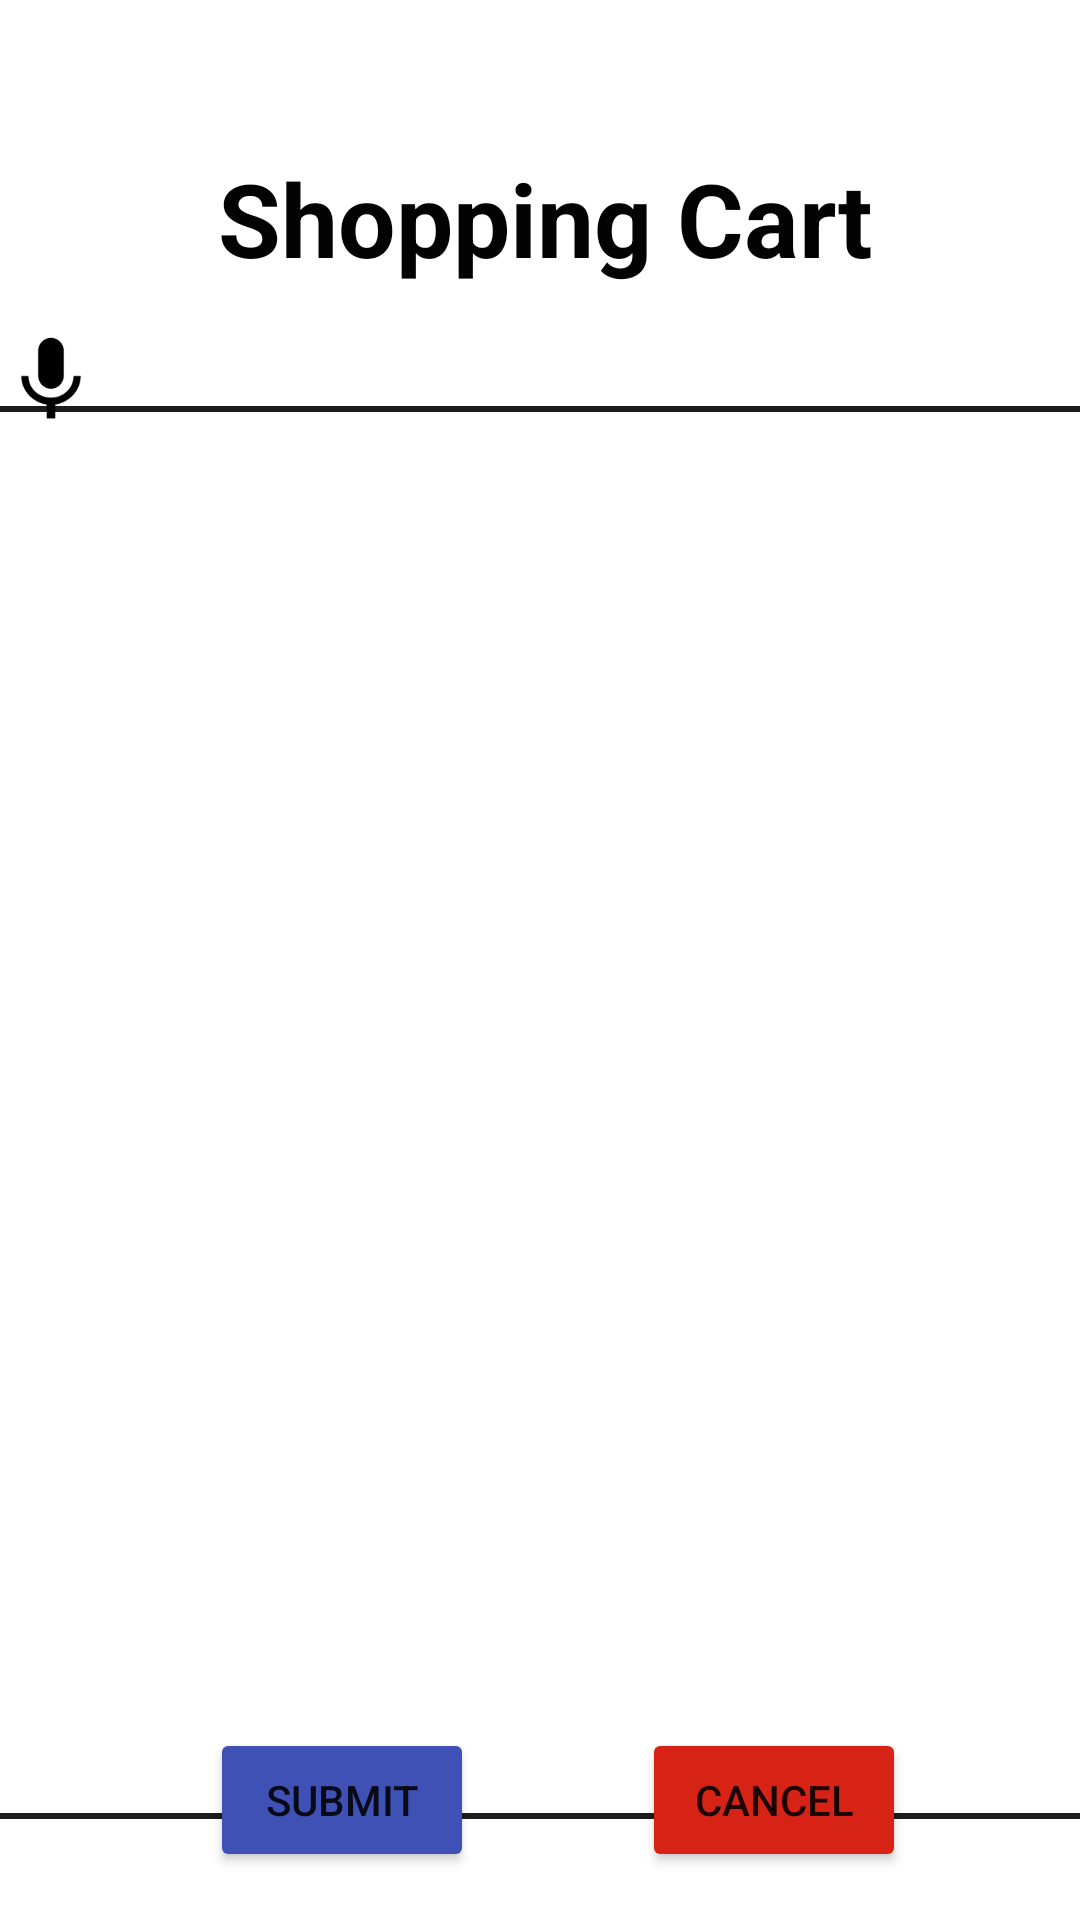

Locate icon controls on the screen. Image size 1080px x 1920px, boxes as (x1, y1, x2, y2).
keyboard voice: (0, 337, 102, 419)
